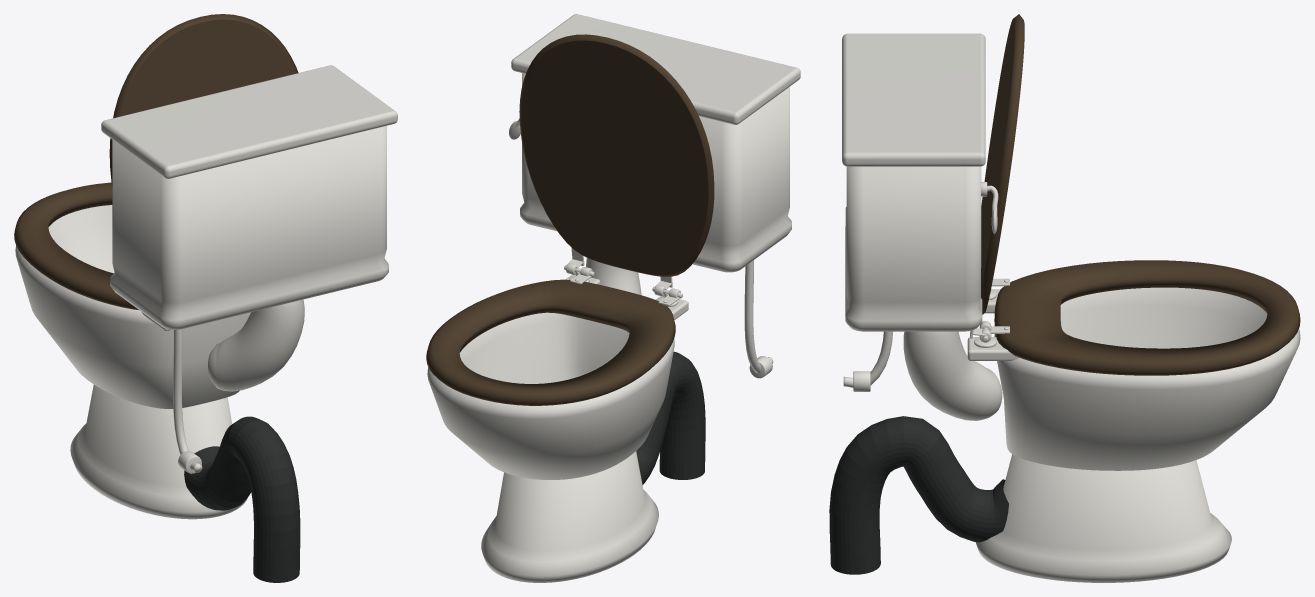
The model's file is bath_water_closet.glb.
The picture shows the model from 3 angles, left to right: view 1: azimuth 30°, elevation 25°; view 2: azimuth 150°, elevation 25°; view 3: azimuth 270°, elevation 25°; orthographic projection. The views are drawn at different scales.
Parts seen in each view (by area): view 1: WaterClosetCasting_porcelain_fixture_Stock, RemovableCisternLid, Lid, DrainTrap, PolishedWoodSeat, WaterClosetCasting_nickel_plated_Stock; view 2: WaterClosetCasting_porcelain_fixture_Stock, Lid, PolishedWoodSeat, RemovableCisternLid, DrainTrap, WaterClosetCasting_nickel_plated_Stock, RaisedLid_nickel_plated_Stock; view 3: WaterClosetCasting_porcelain_fixture_Stock, PolishedWoodSeat, RemovableCisternLid, DrainTrap, Lid, WaterClosetCasting_nickel_plated_Stock.
Boxes of the visible parts, box(x1,y1,x2,y2) form: WaterClosetCasting_porcelain_fixture_Stock: box(15, 125, 388, 519); RemovableCisternLid: box(101, 65, 397, 178); Lid: box(109, 14, 298, 186); DrainTrap: box(184, 416, 300, 582); PolishedWoodSeat: box(14, 182, 138, 309); WaterClosetCasting_nickel_plated_Stock: box(173, 329, 202, 473); WaterClosetCasting_porcelain_fixture_Stock: box(427, 73, 791, 582); Lid: box(519, 34, 714, 276); PolishedWoodSeat: box(426, 279, 675, 405); RemovableCisternLid: box(511, 14, 800, 124); DrainTrap: box(636, 351, 705, 484); WaterClosetCasting_nickel_plated_Stock: box(564, 260, 773, 378); RaisedLid_nickel_plated_Stock: box(566, 247, 672, 296); WaterClosetCasting_porcelain_fixture_Stock: box(845, 166, 1300, 582); PolishedWoodSeat: box(994, 260, 1300, 375); RemovableCisternLid: box(842, 33, 985, 166); DrainTrap: box(829, 416, 1008, 574); Lid: box(981, 14, 1024, 314); WaterClosetCasting_nickel_plated_Stock: box(843, 182, 996, 391).
Bounding box in the file's own units: 0.475 × 0.9719 × 0.7701.
